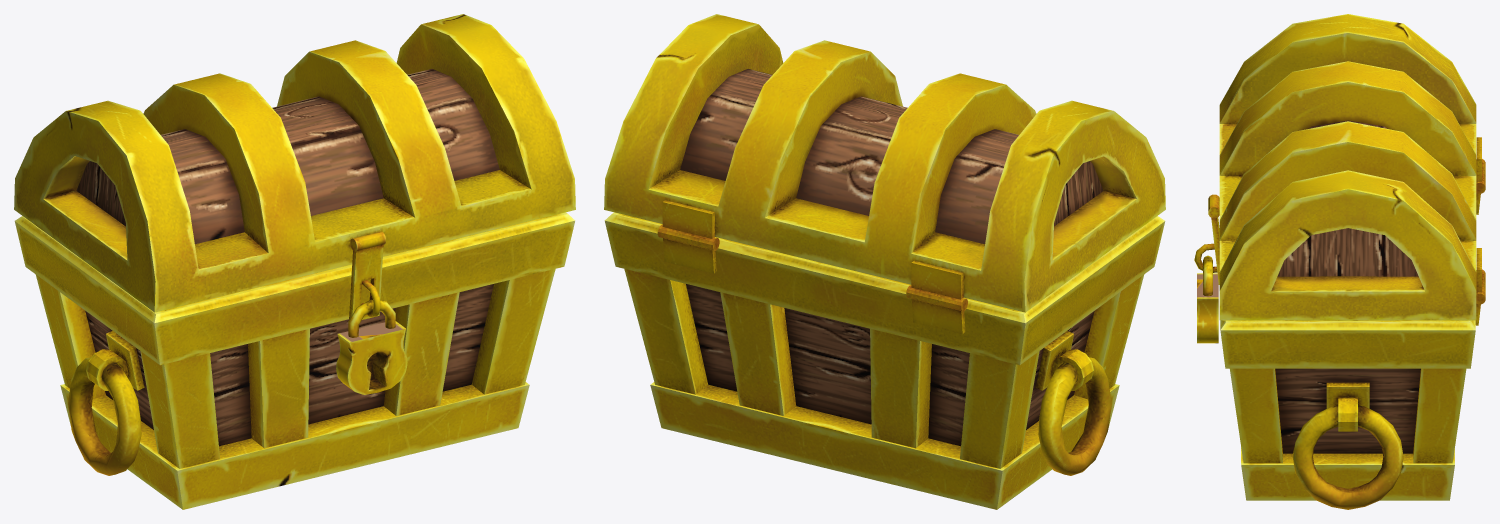
Rendered from Treasure_Optimized.fbx.
The picture shows the model from 3 angles, left to right: view 1: azimuth 30°, elevation 25°; view 2: azimuth 150°, elevation 25°; view 3: azimuth 270°, elevation 25°; orthographic projection. The views are drawn at different scales.
Parts seen in each view (by area): view 1: Lid, Base, Lock; view 2: Lid, Base; view 3: Lid, Base, Lock.
Boxes of the visible parts, box(x1,y1,x2,y2) form: Lid: box(14, 14, 575, 319); Base: box(14, 212, 575, 509); Lock: box(336, 300, 407, 394); Lid: box(604, 14, 1165, 312); Base: box(604, 212, 1165, 509); Lid: box(1194, 14, 1481, 320); Base: box(1220, 159, 1485, 509); Lock: box(1197, 255, 1218, 343).
Size of the model in its own units: 445 by 358 by 292.
